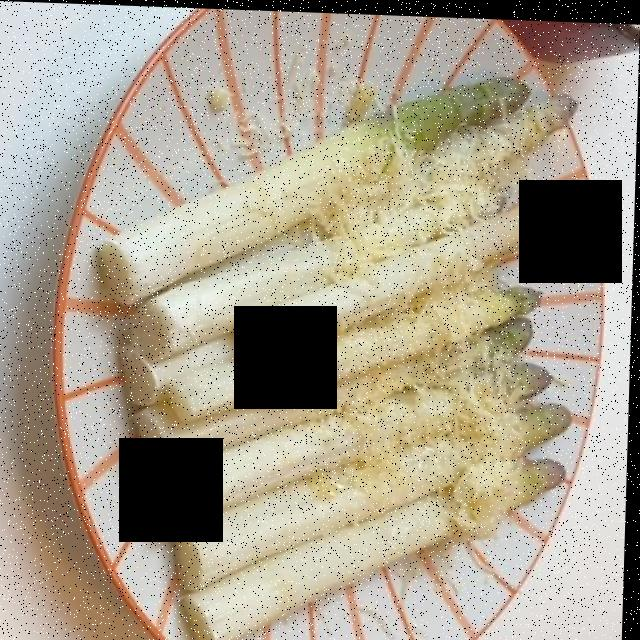cheese: (193, 62, 543, 514)
white-asparagus: (117, 90, 568, 623)
